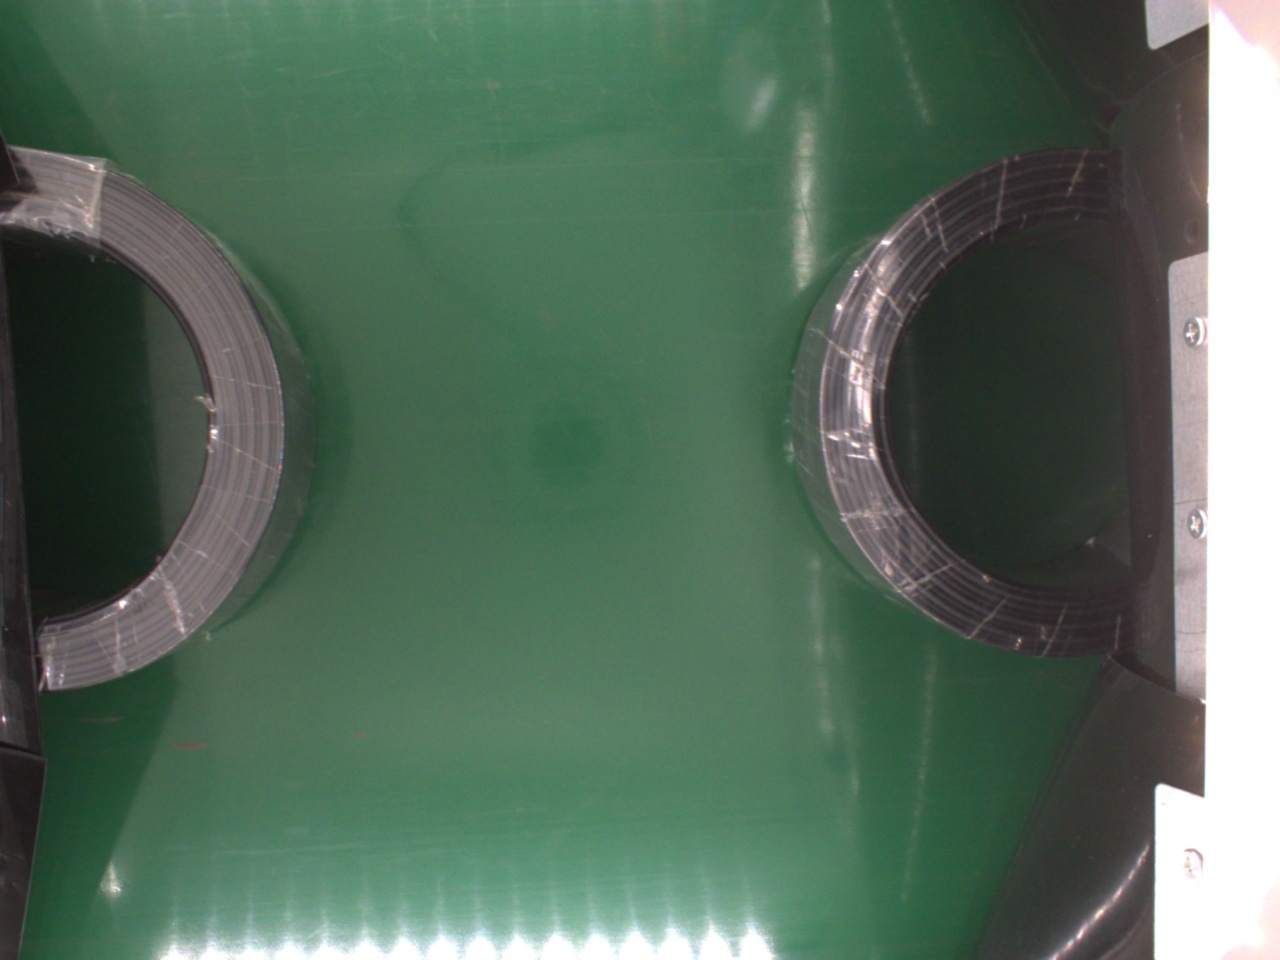black: (789, 146, 1145, 659), (3, 140, 312, 696)
